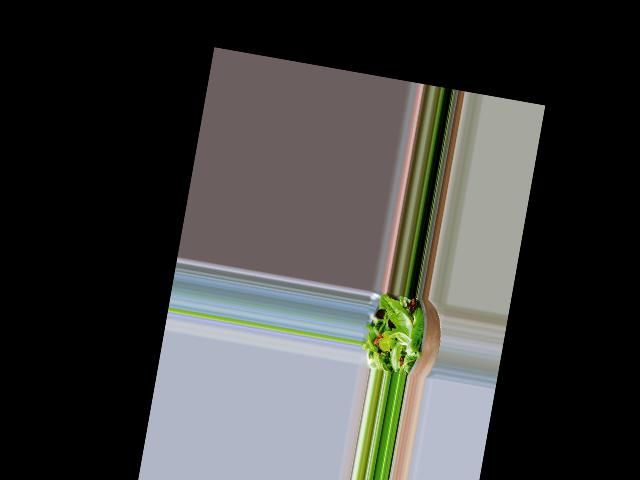lettuce: (363, 298, 428, 372)
